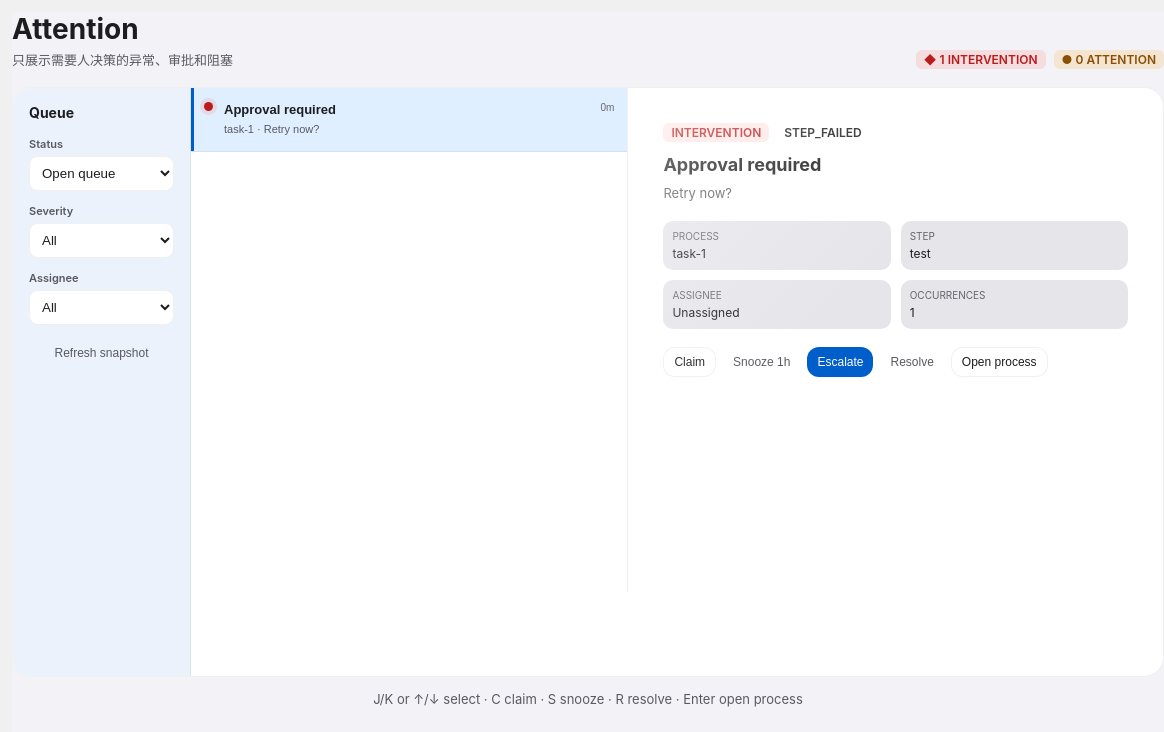
Test: AttentionInbox component › uses the shared failure/reconciliation contract for claim
This screenshot has width=1164, height=732.
Expected: the text "Retry now?" is shown, [663, 185, 732, 201]
Click the button "Claim".
click(690, 362)  # box [663, 347, 716, 377]
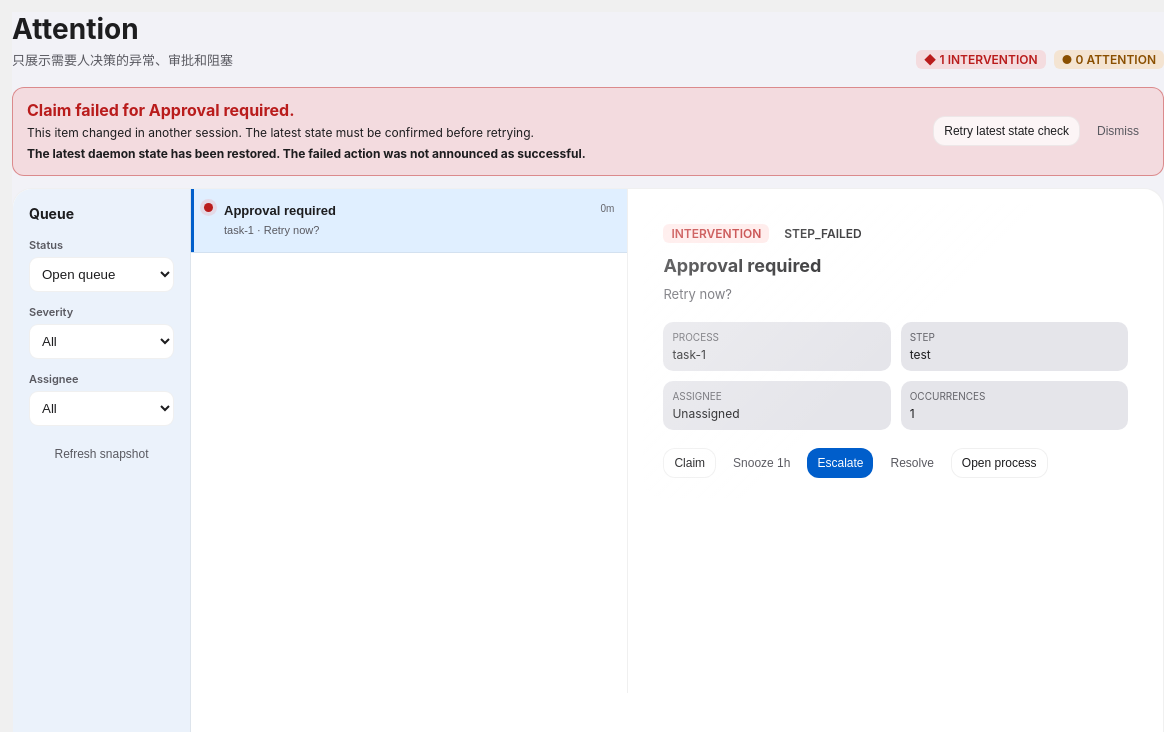
Expected: the message shows "latest daemon state has been restored", [27, 146, 586, 161]
